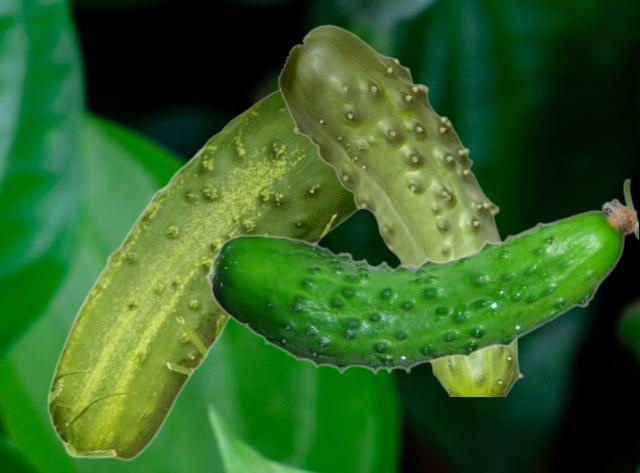cucumber: (46, 88, 360, 460), (277, 24, 523, 395), (204, 178, 637, 374)
